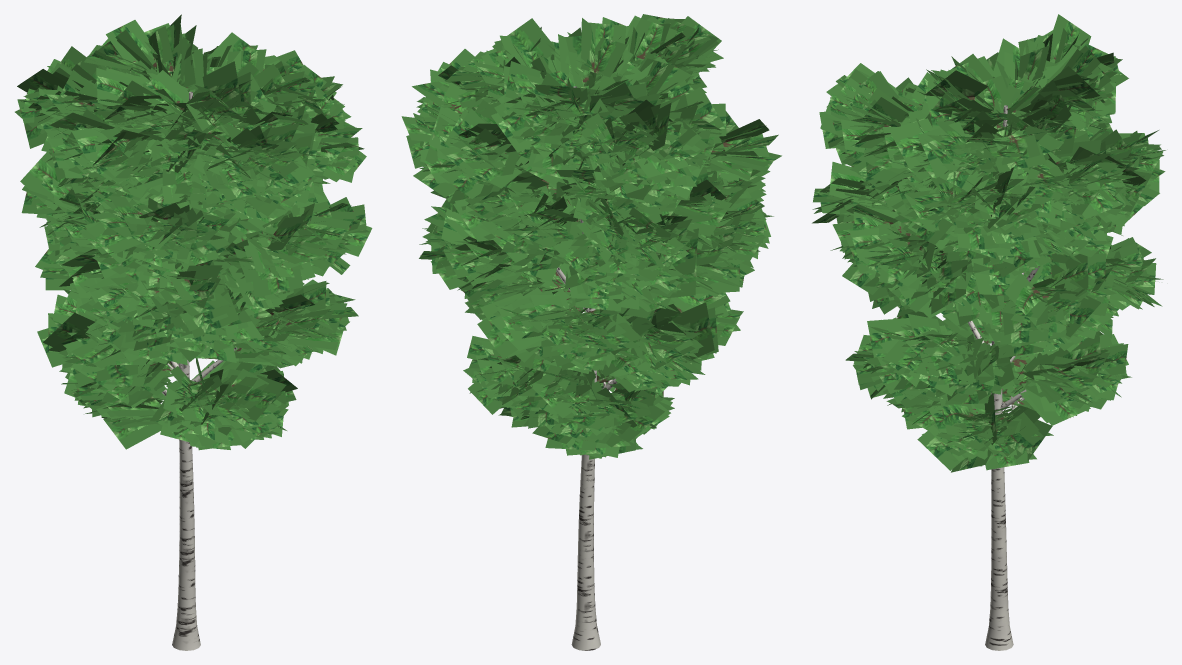
File: albero_c.glb
3 views of the same model, side by side, from view 1: azimuth 30°, elevation 25°; view 2: azimuth 150°, elevation 25°; view 3: azimuth 270°, elevation 25° (orthographic). The views are drawn at different scales.
Visible parts, largest first — view 1: foglie, corteccia; view 2: foglie, corteccia; view 3: foglie, corteccia.
Part boxes in pixels (box(x1,y1,x2,y2)): foglie: box(15, 14, 372, 450); corteccia: box(162, 91, 237, 650); foglie: box(401, 14, 781, 459); corteccia: box(556, 86, 616, 650); foglie: box(812, 14, 1165, 472); corteccia: box(968, 105, 1039, 650).
Size of the model in its own units: 9.99 by 18.96 by 10.43.
2 materials, 2 textured.
